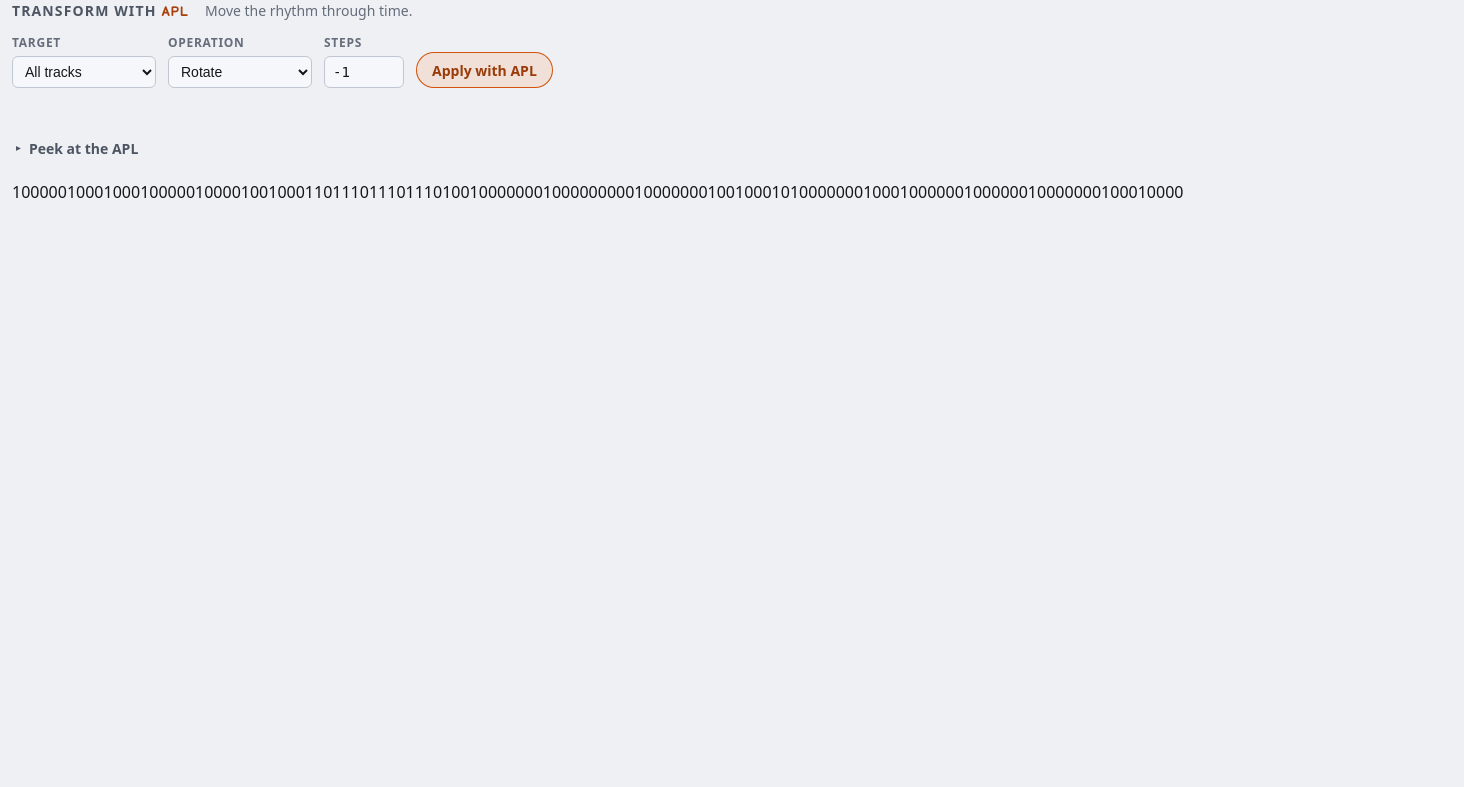
Test: getting to Explore › follows the fixed controls while it is untouched
Select "Kick" in the dropdown labelled "Target" at [84, 72], box left=12, top=56, right=156, bottom=88
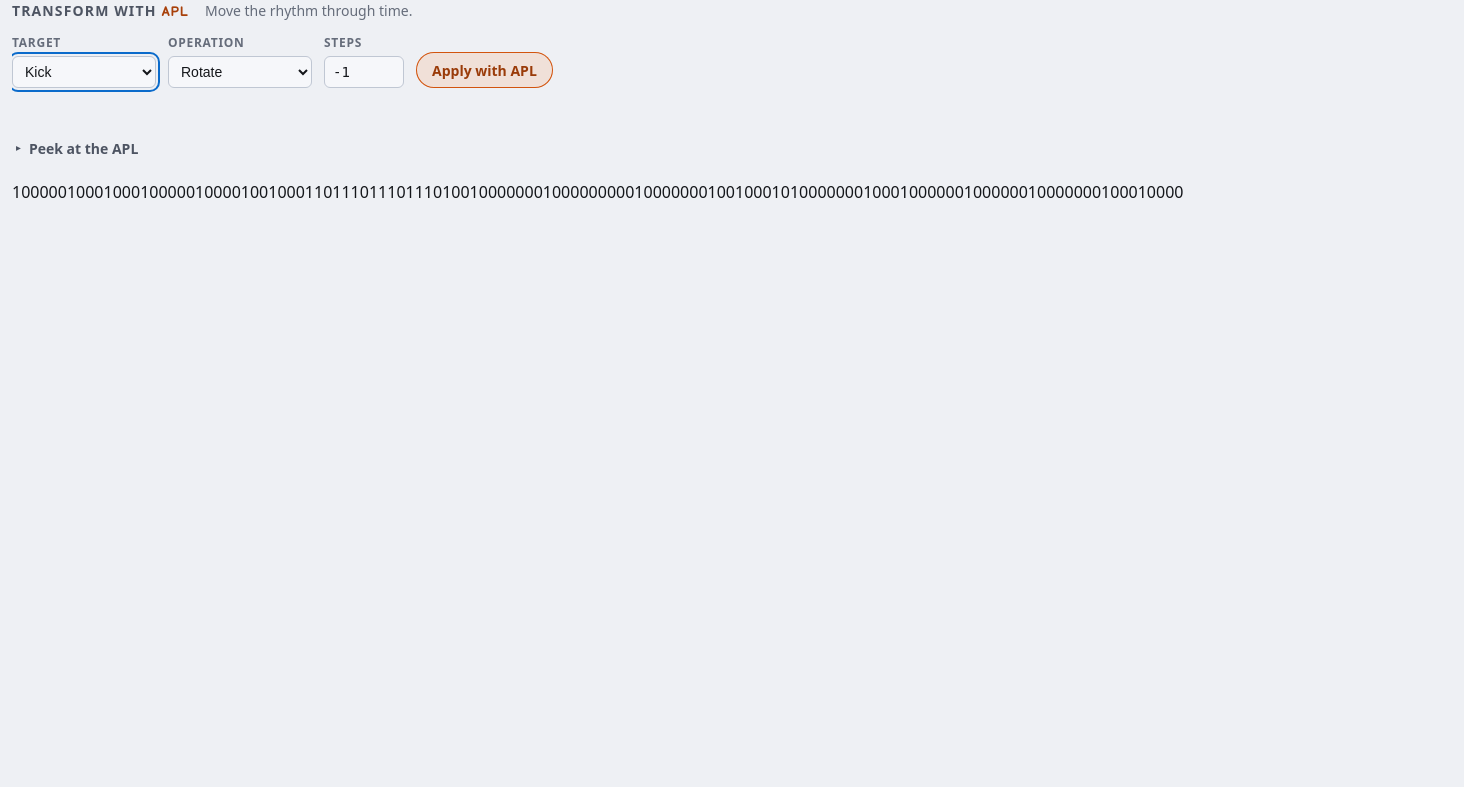
Click the button "▸ Peek at the APL" at [79, 148], box left=12, top=132, right=146, bottom=164
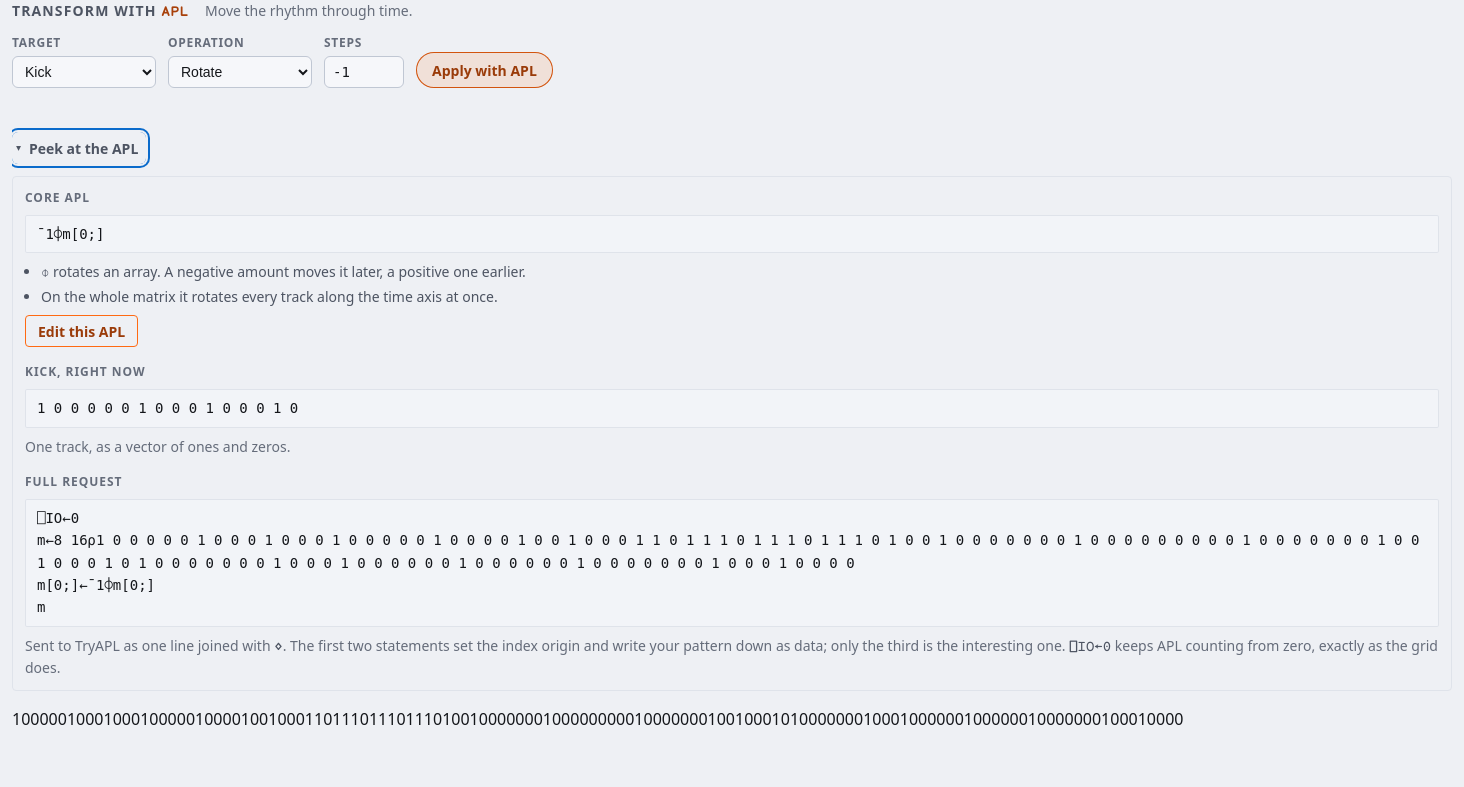
Click the button "Edit this APL" at [82, 331], box left=25, top=315, right=138, bottom=347
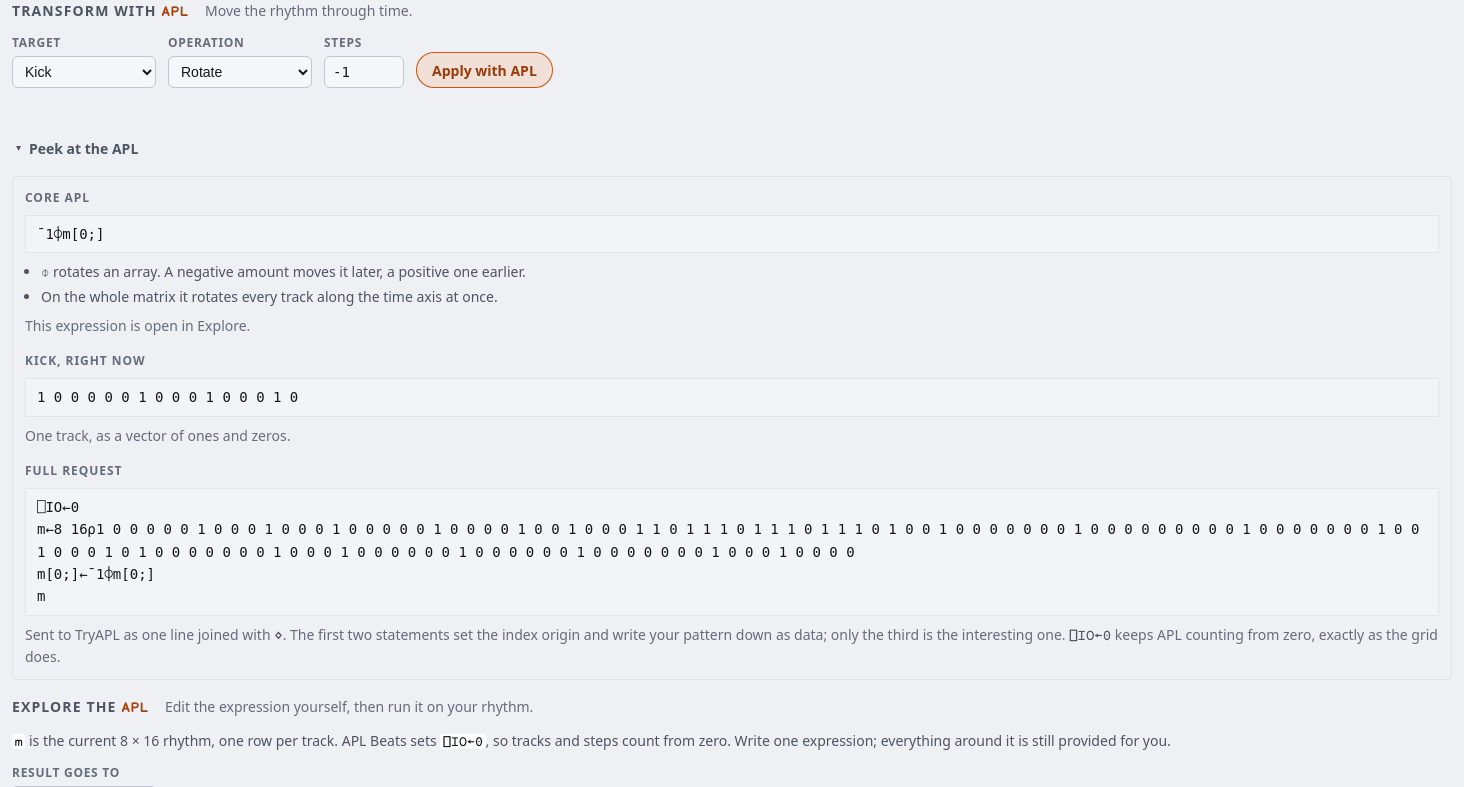
Select "Reverse" in the dropdown labelled "Operation" at [240, 72], box left=168, top=56, right=312, bottom=88
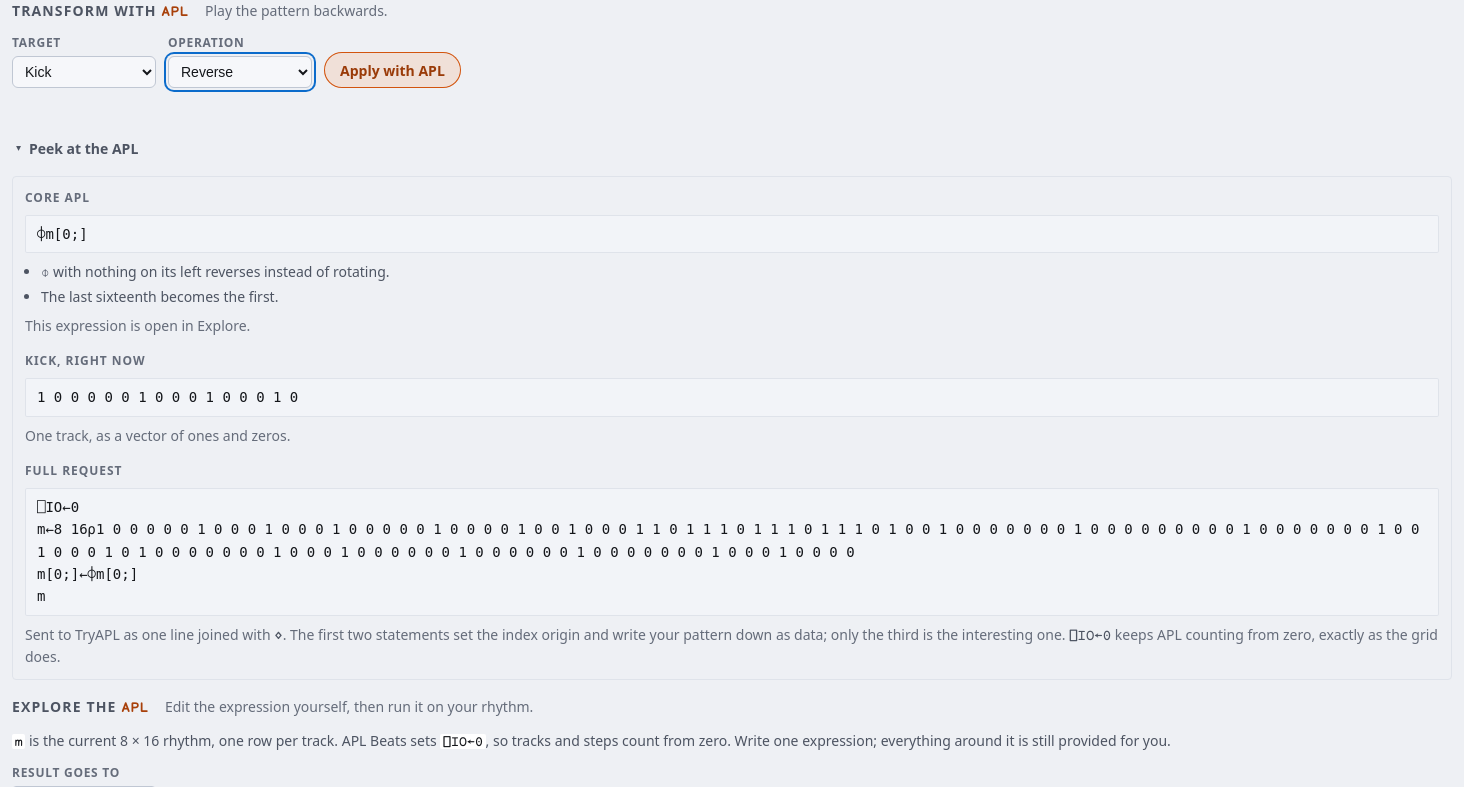
Select "Euclidean" in the dropdown labelled "Operation" at [240, 72], box left=168, top=56, right=312, bottom=88
(page scrolled)
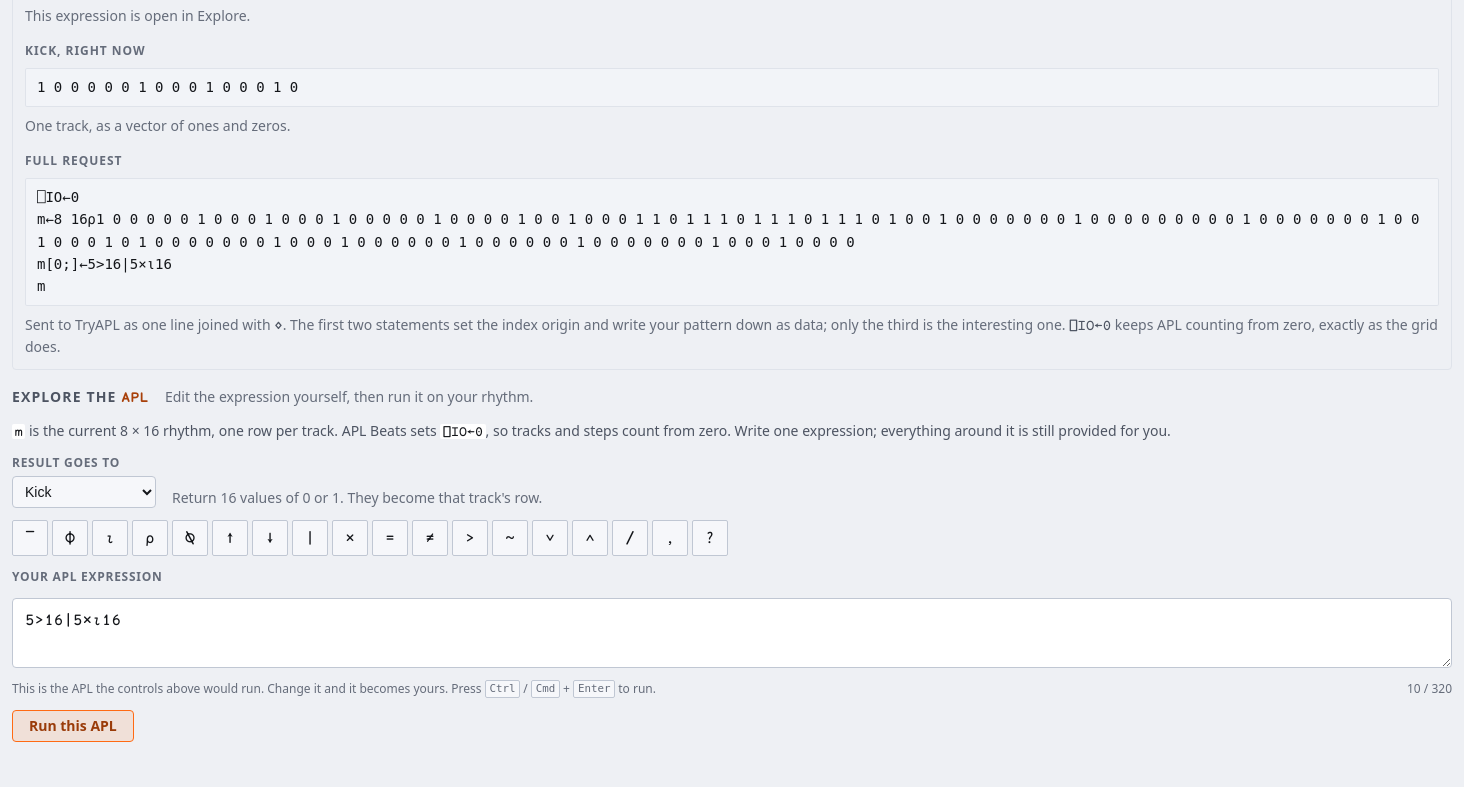
Expected: the text box labelled "Your APL expression" holds "5>16|5×⍳16", left=12, top=598, right=1452, bottom=668
